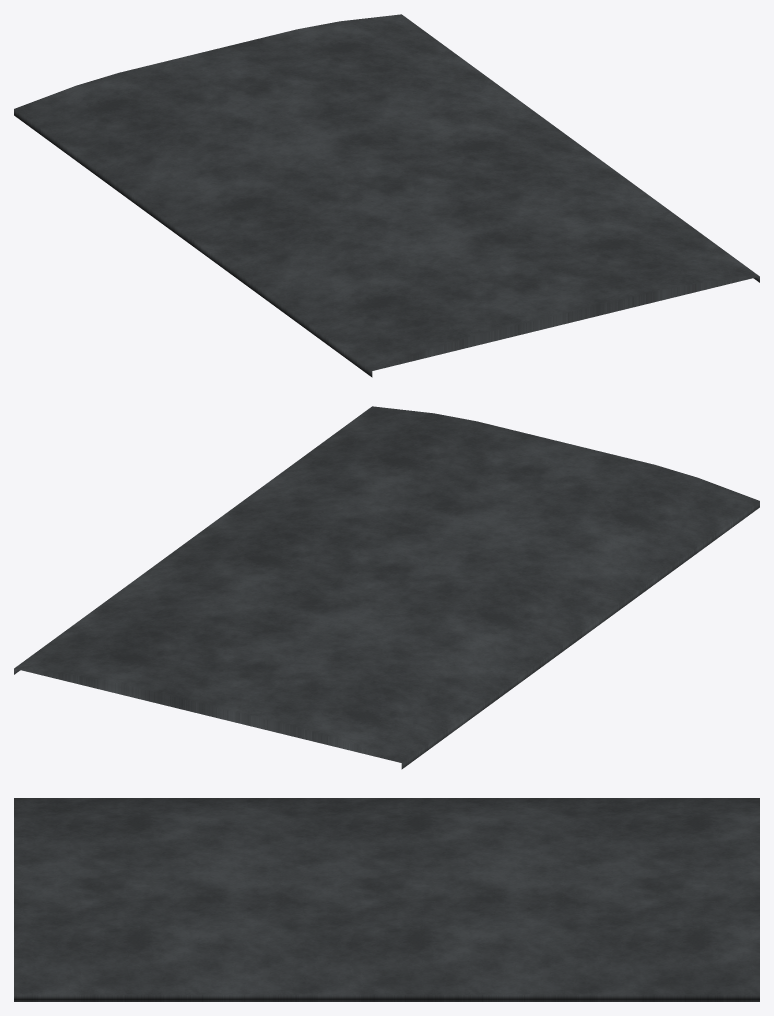
File: MKT_SpeedTable_8m.obj
The picture shows the model from 3 angles, top to bottom: view 1: azimuth 30°, elevation 25°; view 2: azimuth 150°, elevation 25°; view 3: azimuth 270°, elevation 25°; orthographic projection. The views are drawn at different scales.
Parts seen in each view (by area): view 1: MKT_SpeedTable_8m; view 2: MKT_SpeedTable_8m; view 3: MKT_SpeedTable_8m.
Boxes of the visible parts, x1=… form: MKT_SpeedTable_8m: x1=14, y1=14, x2=759, y2=377; MKT_SpeedTable_8m: x1=14, y1=406, x2=759, y2=769; MKT_SpeedTable_8m: x1=14, y1=798, x2=759, y2=1001.
Size of the model in its own units: 5 by 0.21 by 8.
1 material, 1 textured.
